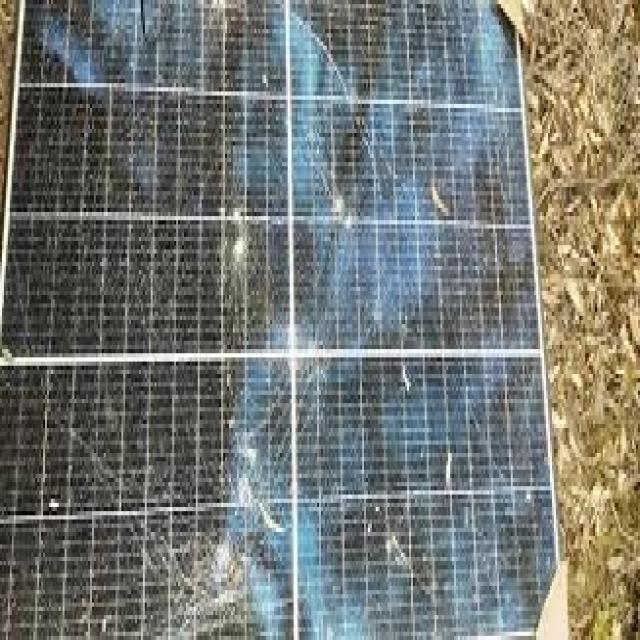faulty: (16, 0, 549, 640)
